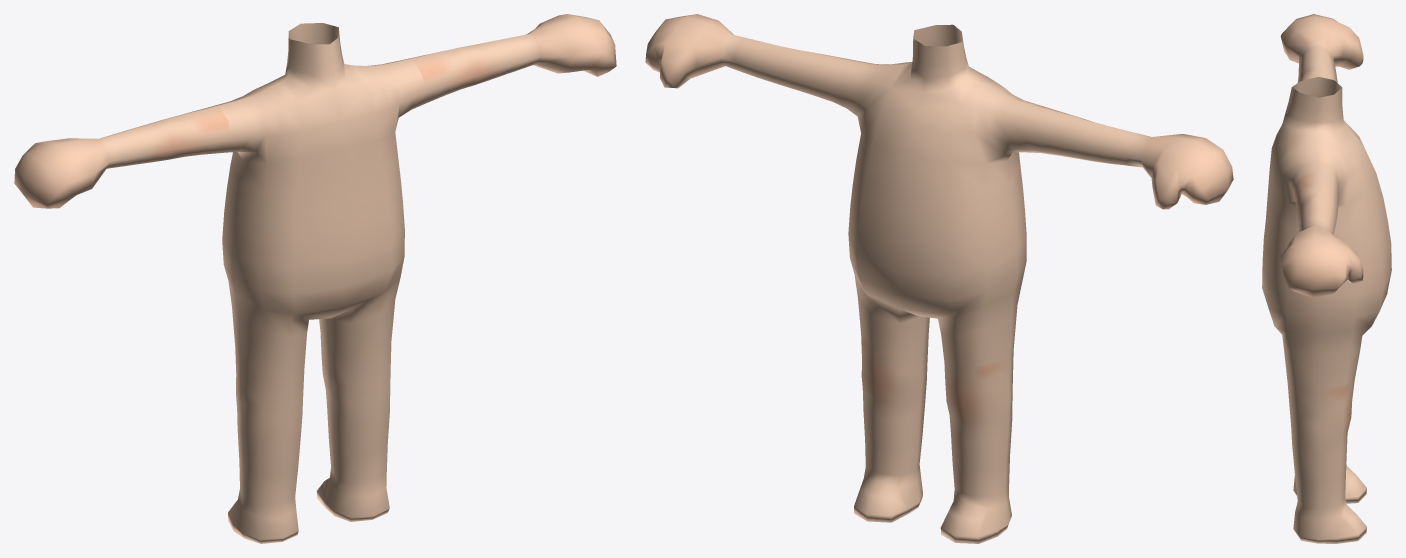
The model's file is Body_4.fbx.
3 renders of one model, left to right at view 1: azimuth 30°, elevation 25°; view 2: azimuth 150°, elevation 25°; view 3: azimuth 270°, elevation 25°, orthographic. The views are drawn at different scales.
Visible parts, largest first — view 1: Body_4; view 2: Body_4; view 3: Body_4.
Boxes of the visible parts, x1,y1,x2,y2 form: Body_4: (14,14,616,543); Body_4: (645,14,1233,543); Body_4: (1262,14,1391,543).
Bounding box in the file's own units: 131 × 104 × 28.57.
